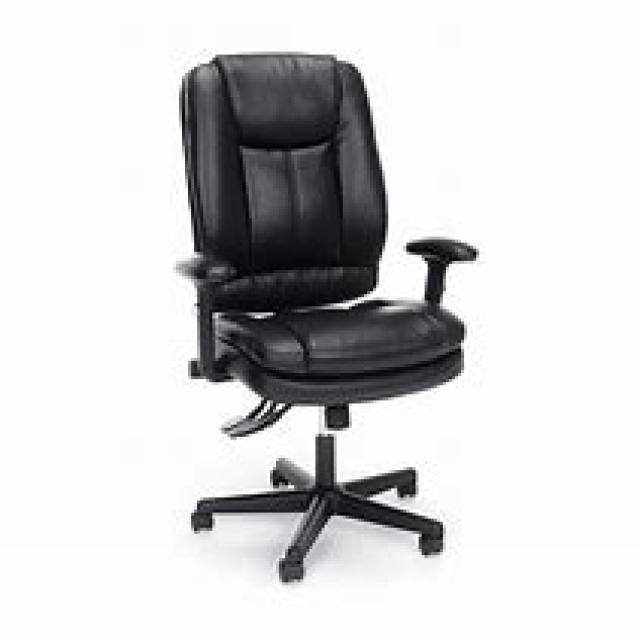chair: (173, 49, 476, 582)
